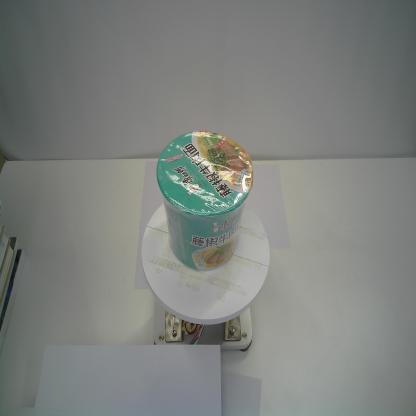Instant Noodles: (157, 130, 254, 271)
